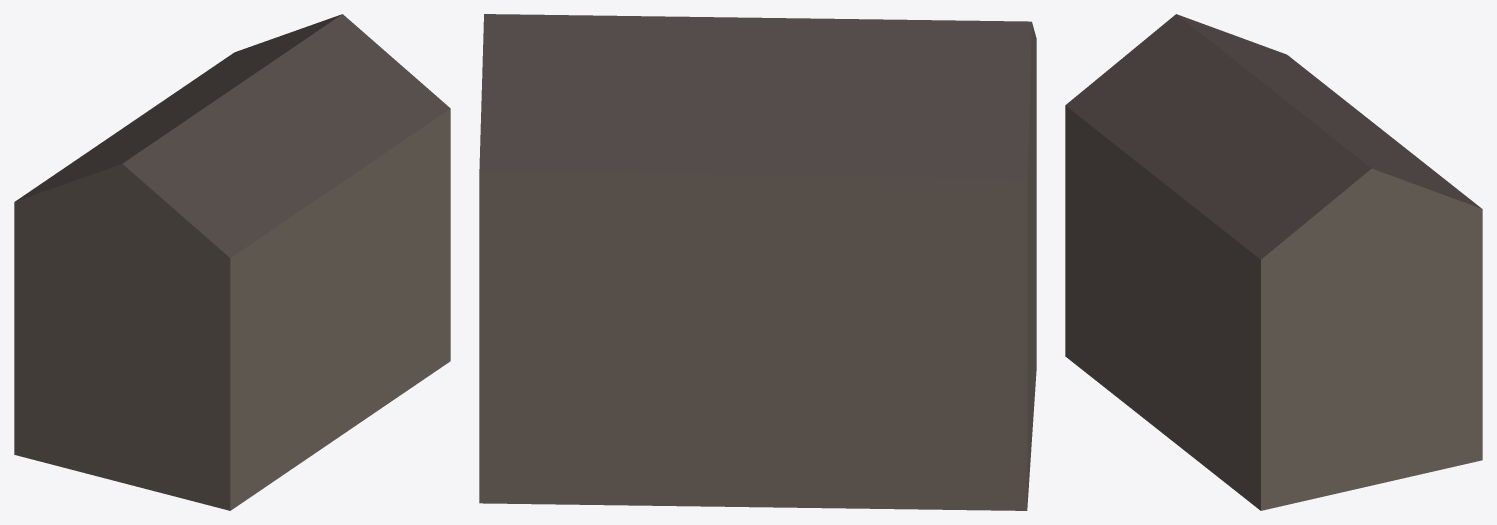
3 renders of one model, left to right at view 1: azimuth 30°, elevation 25°; view 2: azimuth 150°, elevation 25°; view 3: azimuth 270°, elevation 25°, orthographic. The views are drawn at different scales.
Visible parts, largest first — view 1: HP-w859086195; view 2: HP-w859086195; view 3: HP-w859086195.
Part boxes in pixels (box(x1,y1,x2,y2)): HP-w859086195: box(14, 14, 450, 510); HP-w859086195: box(479, 14, 1036, 510); HP-w859086195: box(1065, 14, 1482, 510).
Size of the model in its own units: 15.78 by 11.37 by 13.56.
